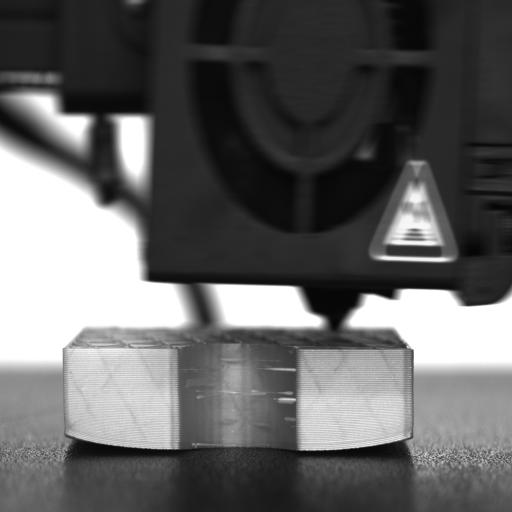warp: (58, 428, 188, 454), (292, 430, 420, 456)
